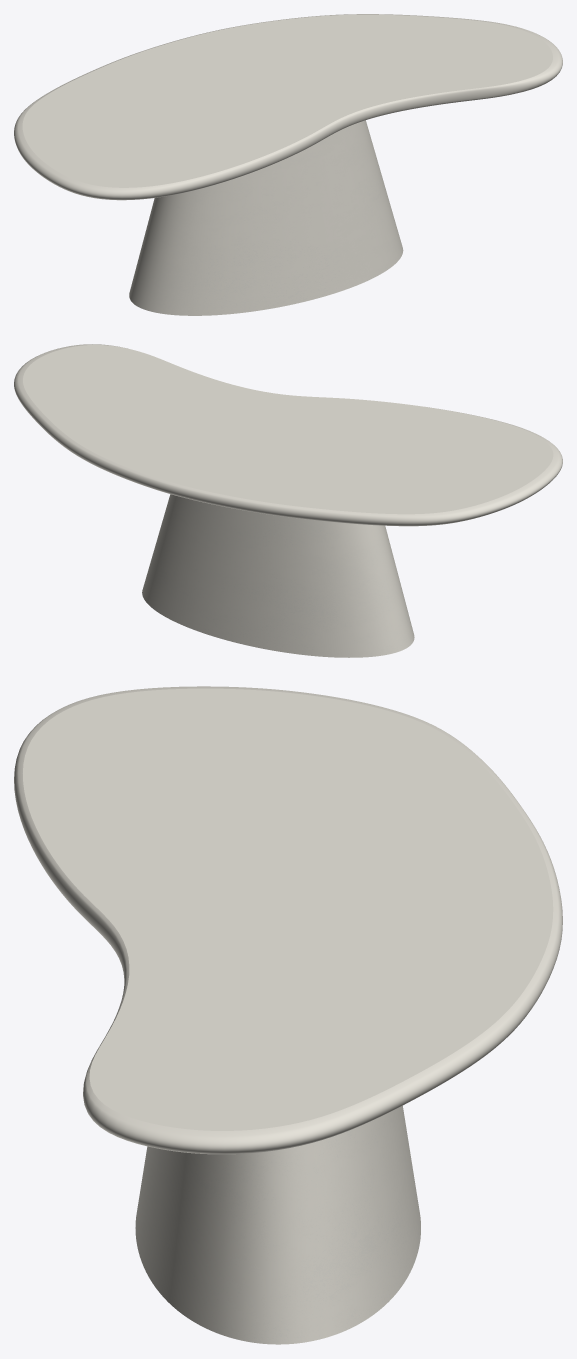
Rendered from pale_leaf1_round_eqone.glb.
The picture shows the model from 3 angles, top to bottom: view 1: azimuth 30°, elevation 25°; view 2: azimuth 150°, elevation 25°; view 3: azimuth 270°, elevation 25°; orthographic projection. The views are drawn at different scales.
Parts seen in each view (by area): view 1: round_leaf1, eqone; view 2: round_leaf1, eqone; view 3: round_leaf1, eqone.
Part boxes in pixels (bbox=[...]): round_leaf1: bbox=[14, 14, 562, 200]; eqone: bbox=[129, 120, 403, 315]; round_leaf1: bbox=[14, 344, 562, 526]; eqone: bbox=[142, 494, 414, 657]; round_leaf1: bbox=[14, 686, 562, 1154]; eqone: bbox=[135, 1106, 420, 1344].
Size of the model in its own units: 7.5 by 2.51 by 3.8.
1 material, 1 textured.
